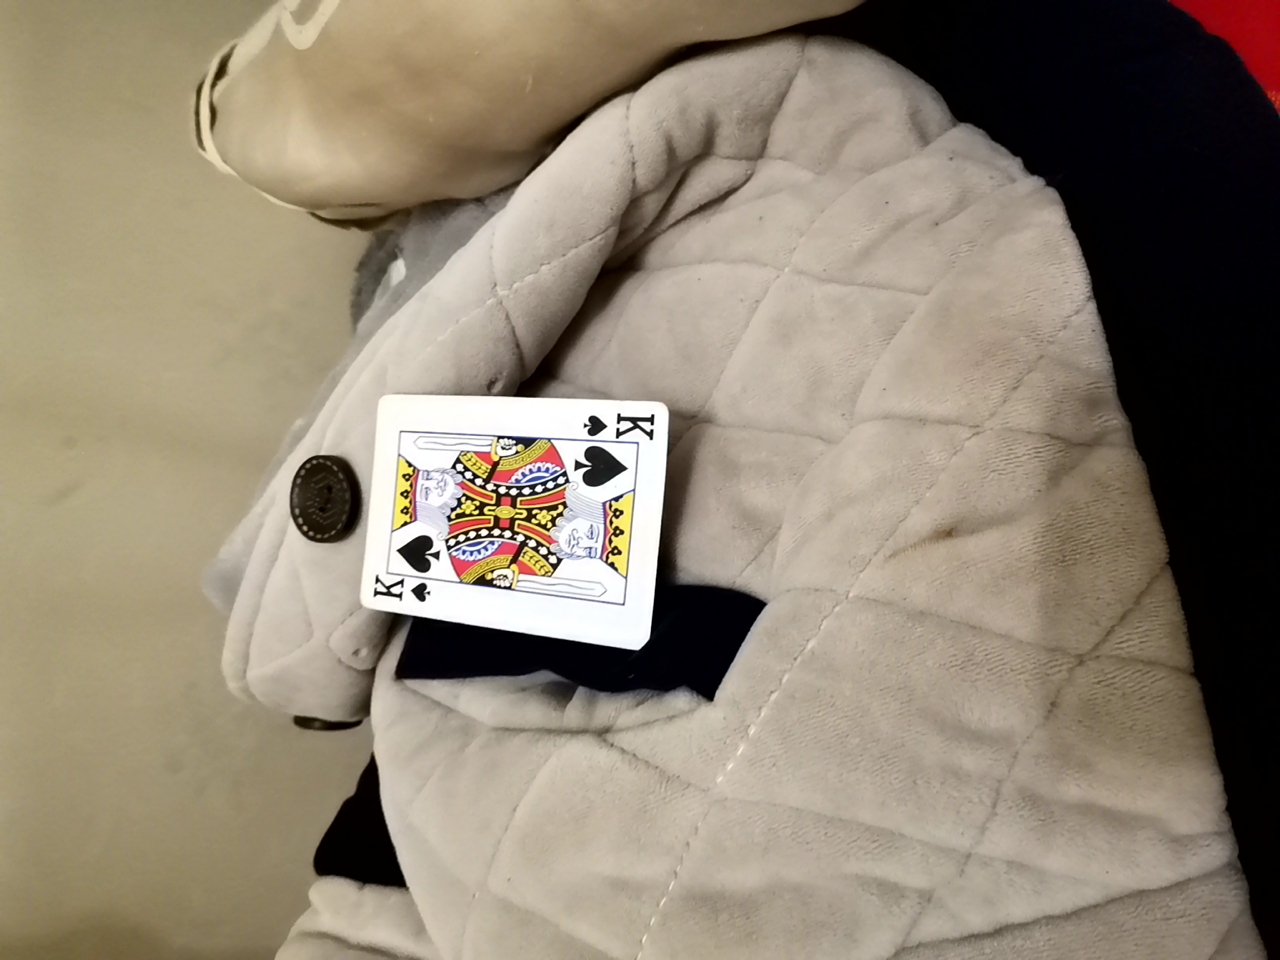ht k: (316, 390, 686, 654)
